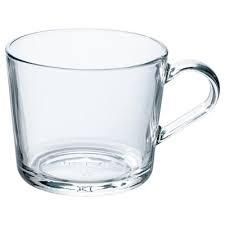glass: (2, 21, 221, 207)
